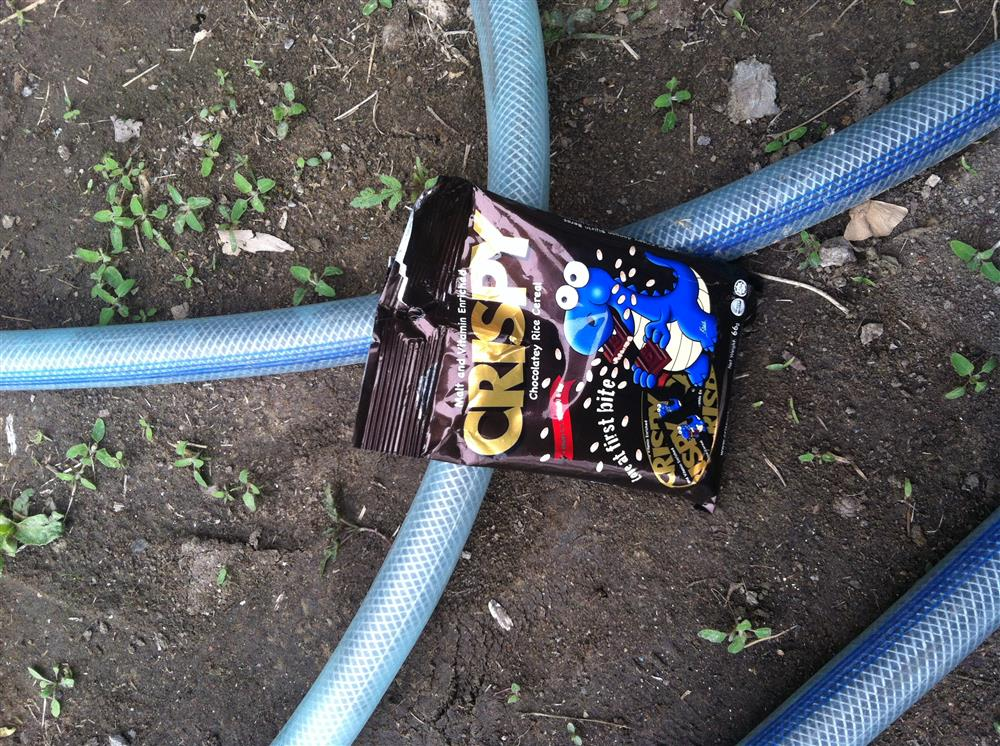CRISPY: (350, 174, 752, 504)
